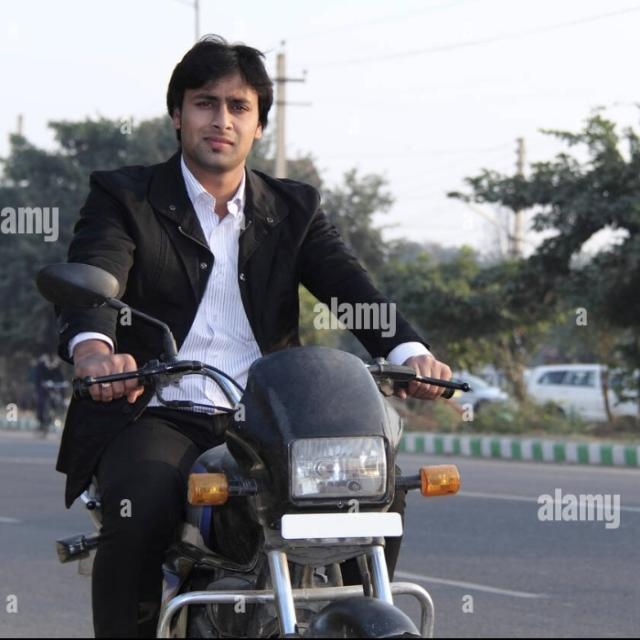WithoutHelmet: (55, 30, 452, 636)
